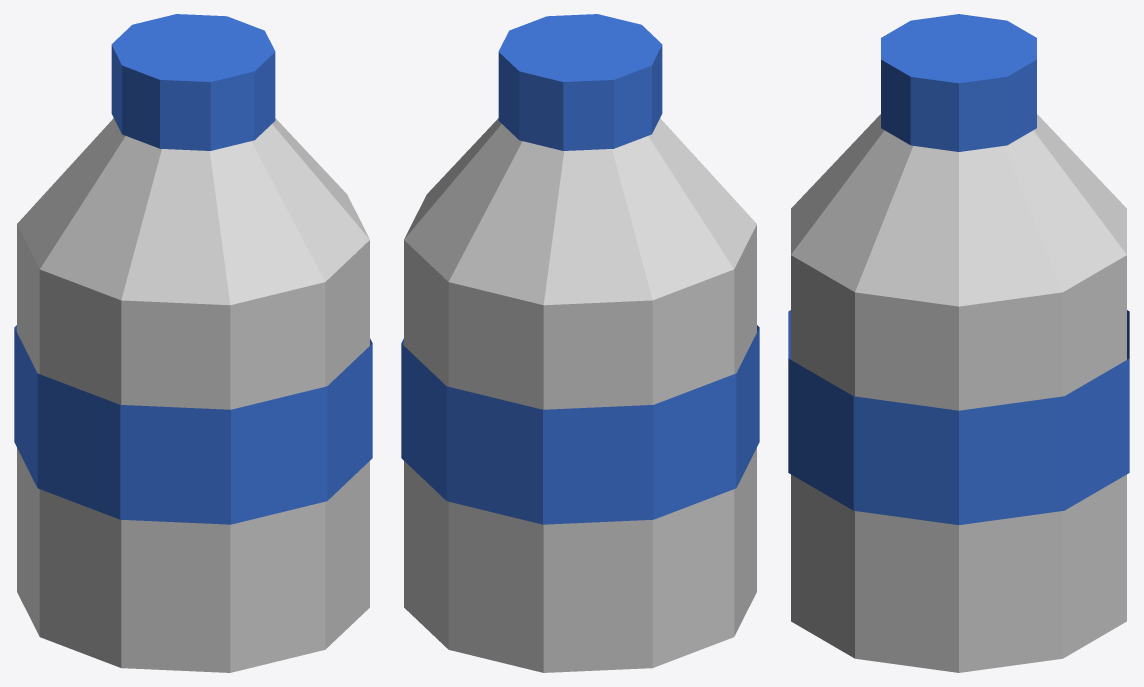
Rendered from milk.obj.
3 renders of one model, left to right at view 1: azimuth 30°, elevation 25°; view 2: azimuth 150°, elevation 25°; view 3: azimuth 270°, elevation 25°, orthographic.
Parts seen in each view (by area): view 1: item; view 2: item; view 3: item.
Boxes of the visible parts, <box> form: item: <box>14,14,372,672</box>; item: <box>401,14,759,672</box>; item: <box>788,14,1129,672</box>.
Bounding box in the file's own units: 0.284 × 0.48 × 0.2702.
